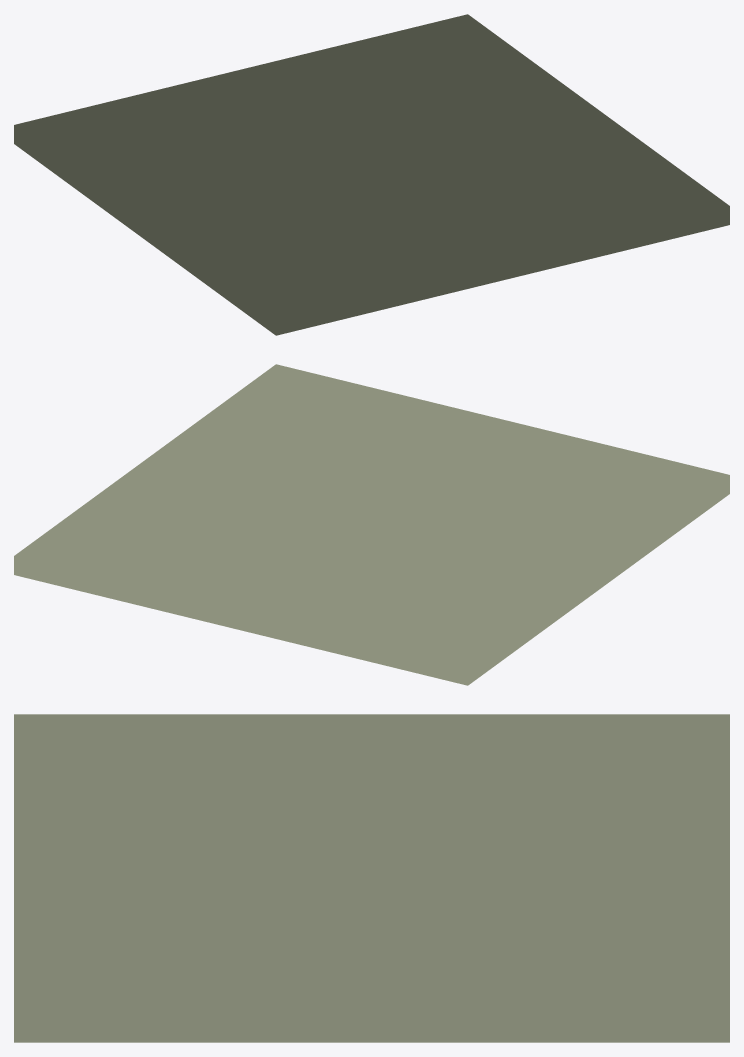
Rendered from tile_tile.dae.
3 views of the same model, one above another, from view 1: azimuth 30°, elevation 25°; view 2: azimuth 150°, elevation 25°; view 3: azimuth 270°, elevation 25° (orthographic). The views are drawn at different scales.
Parts seen in each view (by area): view 1: grid1-0; view 2: grid1-0; view 3: grid1-0.
Part boxes in pixels (x1=…): grid1-0: x1=14, y1=14, x2=729, y2=335; grid1-0: x1=14, y1=364, x2=729, y2=685; grid1-0: x1=14, y1=714, x2=729, y2=1042.
Size of the model in its own units: 5 by 0.2268 by 5.
